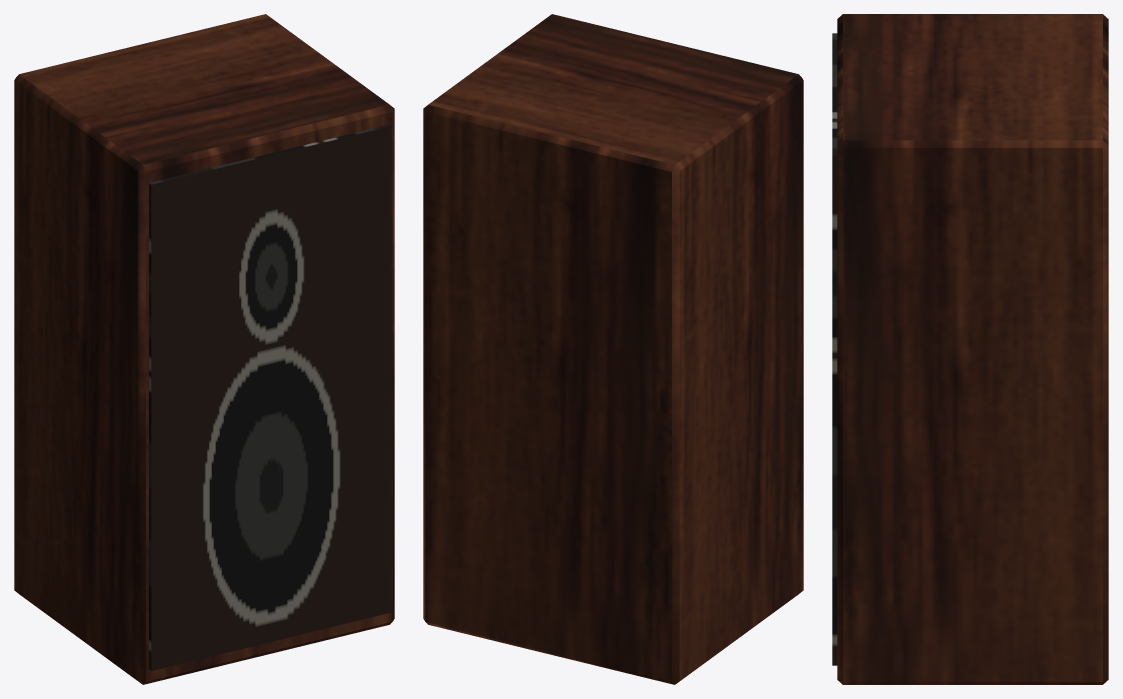
File: Speaker.fbx
3 renders of one model, left to right at view 1: azimuth 30°, elevation 25°; view 2: azimuth 150°, elevation 25°; view 3: azimuth 270°, elevation 25°, orthographic. The views are drawn at different scales.
Visible parts, largest first — view 1: Speaker; view 2: Speaker; view 3: Speaker.
Boxes of the visible parts, left/top/right/bottom form: Speaker: left=14, top=14, right=394, bottom=684; Speaker: left=423, top=14, right=803, bottom=684; Speaker: left=832, top=14, right=1108, bottom=684.
Bounding box in the file's own units: 0.32 × 0.62 × 0.285.
